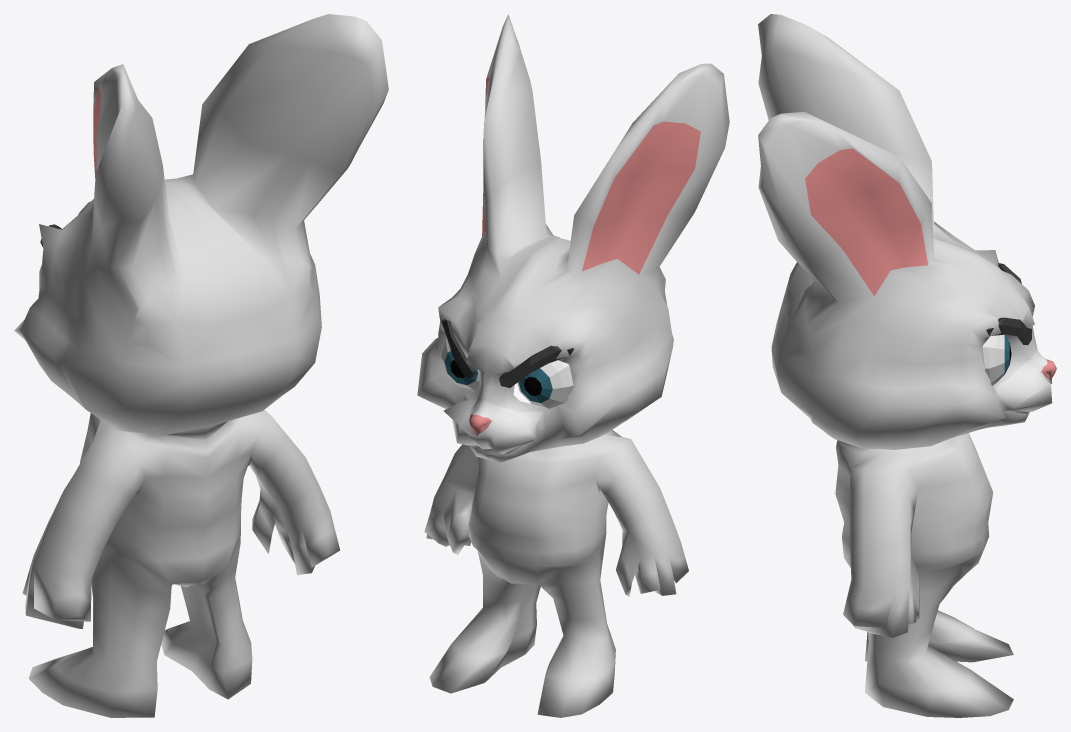
Rendered from conejo2.glb.
3 views of the same model, side by side, from view 1: azimuth 30°, elevation 25°; view 2: azimuth 150°, elevation 25°; view 3: azimuth 270°, elevation 25° (orthographic). The views are drawn at different scales.
Parts seen in each view (by area): view 1: Sphere.002; view 2: Sphere.002; view 3: Sphere.002.
Part boxes in pixels (box(x1,y1,x2,y2)): Sphere.002: box(14, 14, 388, 717); Sphere.002: box(417, 14, 729, 717); Sphere.002: box(758, 14, 1056, 717).
Bounding box in the file's own units: 8.43 × 18.83 × 8.32.
